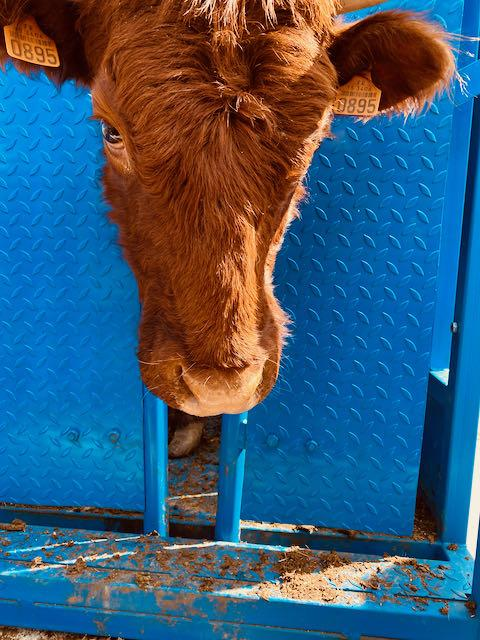muzzles: (154, 350, 278, 426)
